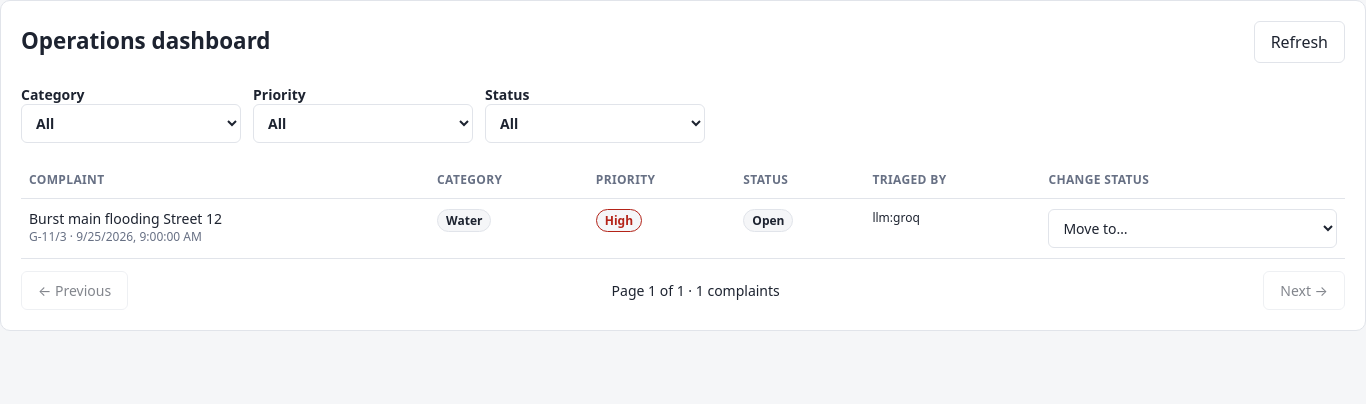
DashboardPage › shows the server's 409 message verbatim, not a generic error
Select "resolved" in the dropdown named "Change status of 11111111-1111-1111-1111-111111111111". click: (1193, 228)
box: [1048, 209, 1337, 248]
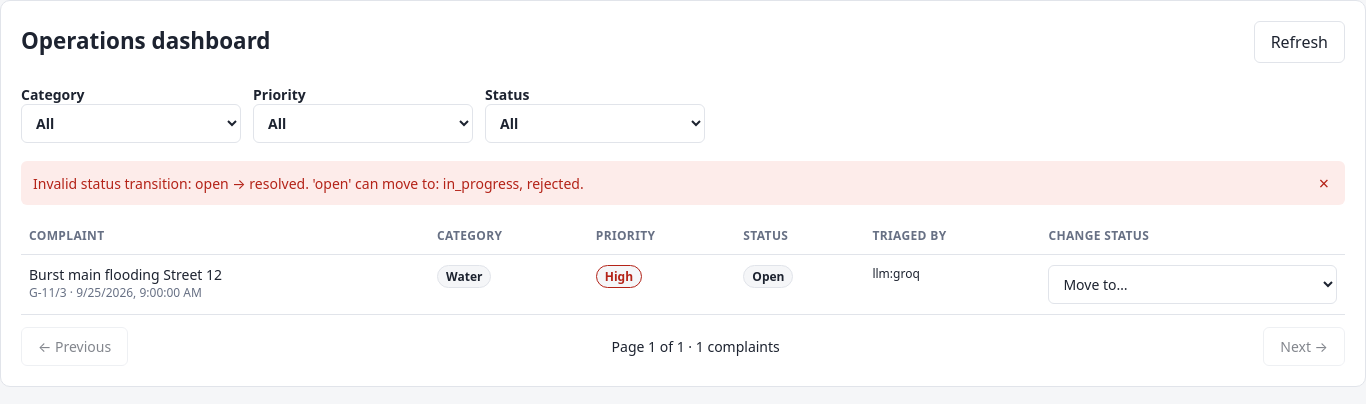
expect the message shows "Invalid status transition: open → resolved. 'open' can move to: in_progress, rejected.": met, box [33, 174, 584, 192]
